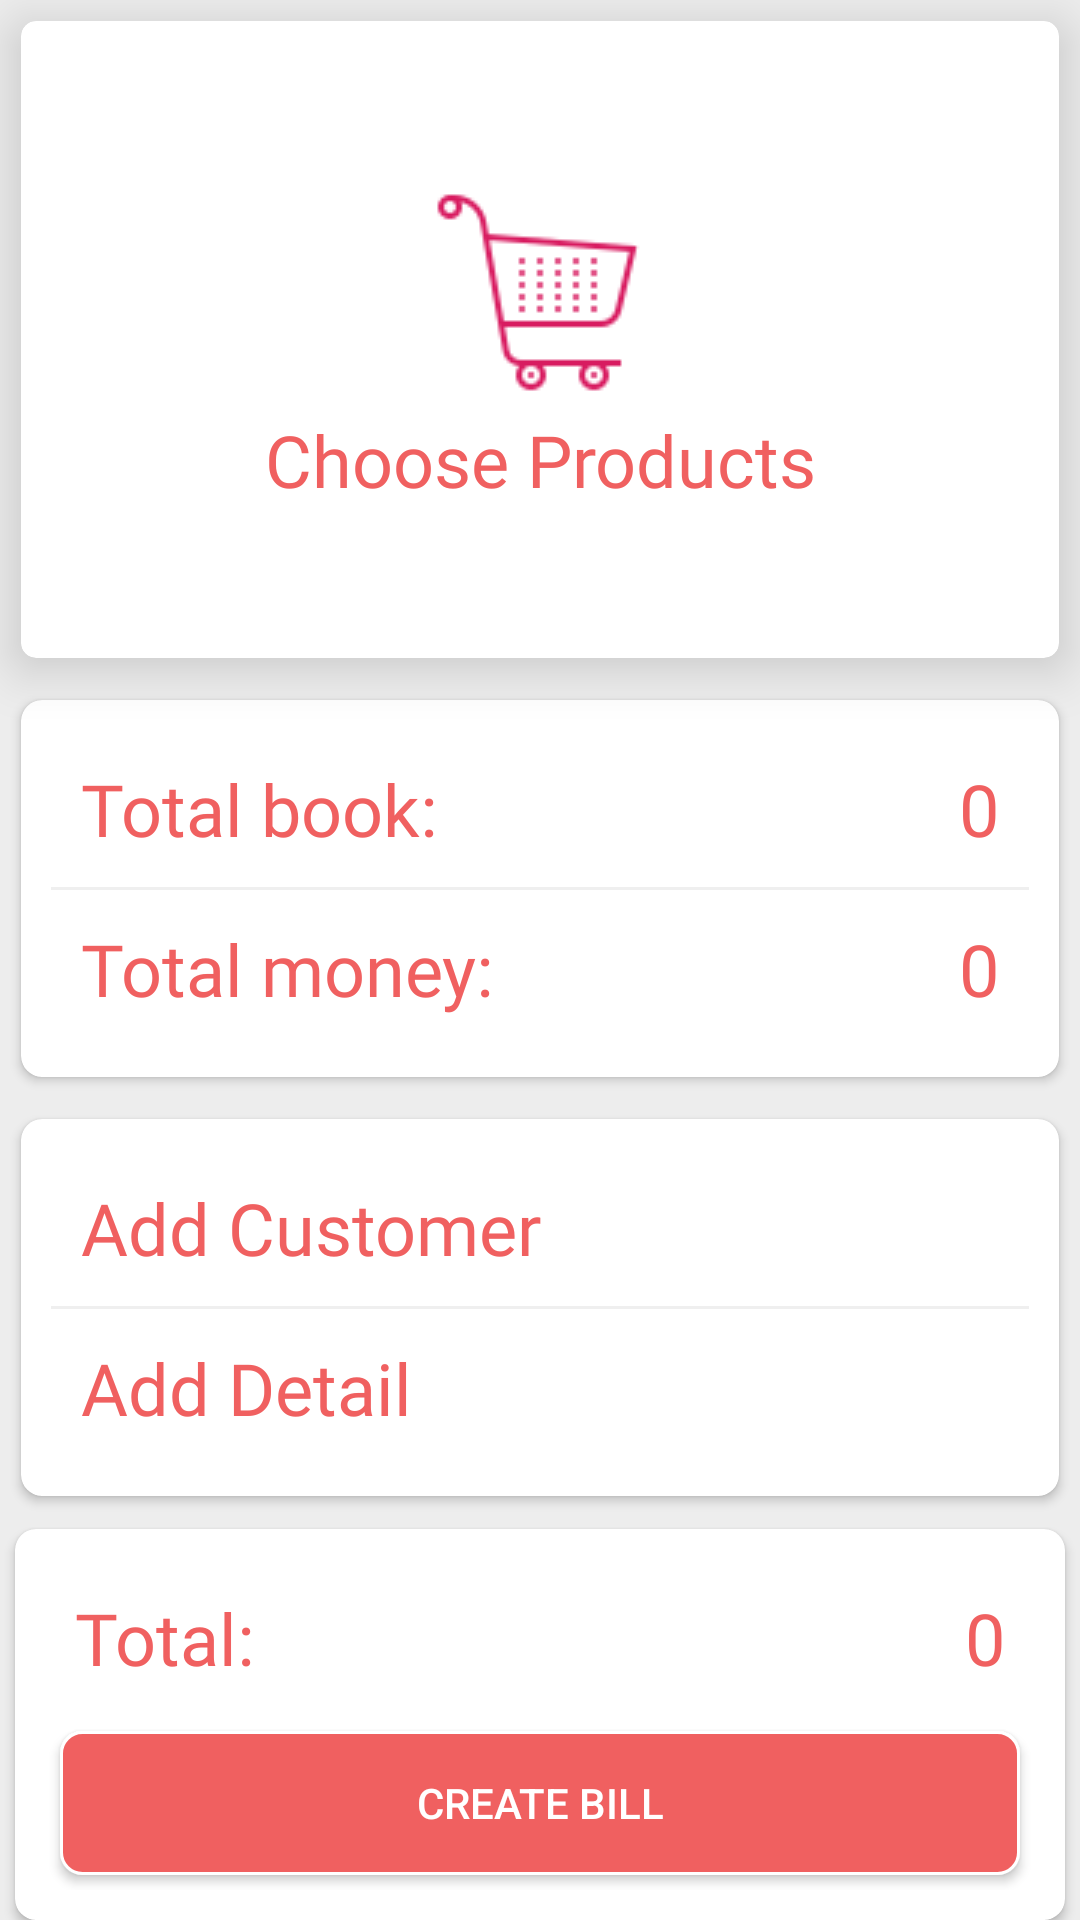

Icon bounding boxes for this 1080×1920 phone screenshot, format {"left": x1, "top": y1, "right": x2, "bottom": y2}:
cart: {"left": 437, "top": 194, "right": 638, "bottom": 391}
